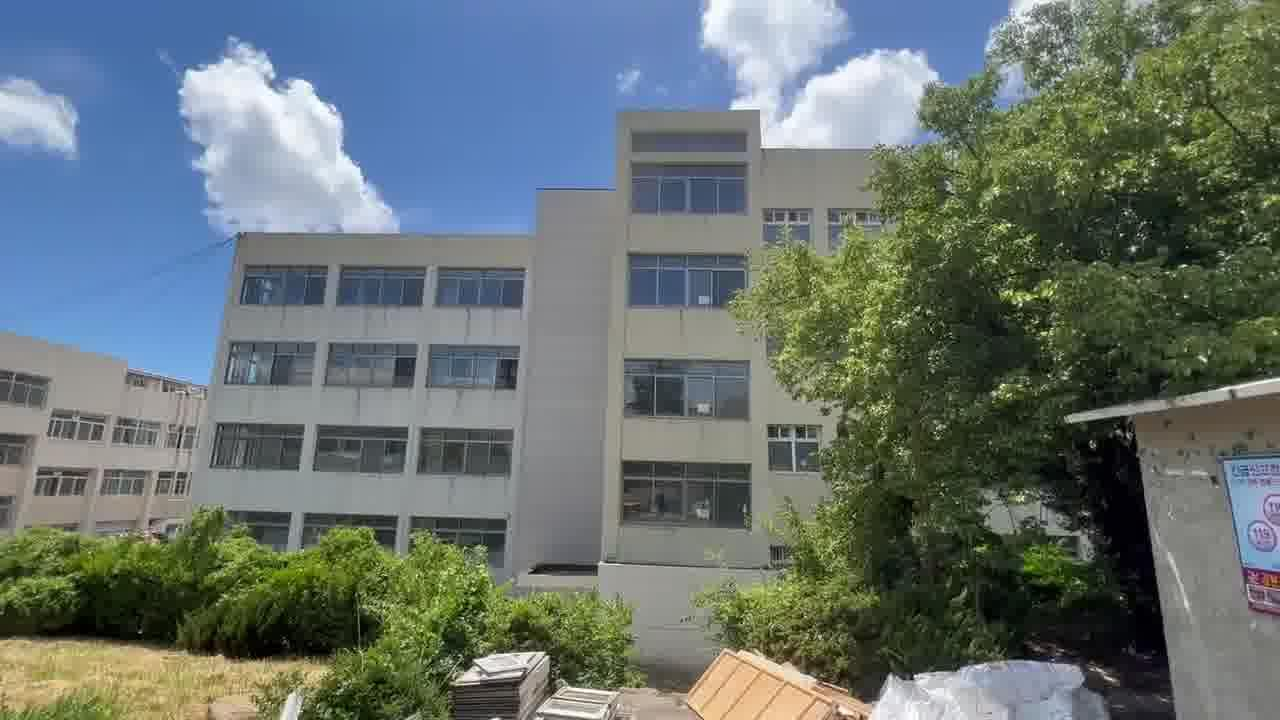building: (214, 104, 791, 535)
